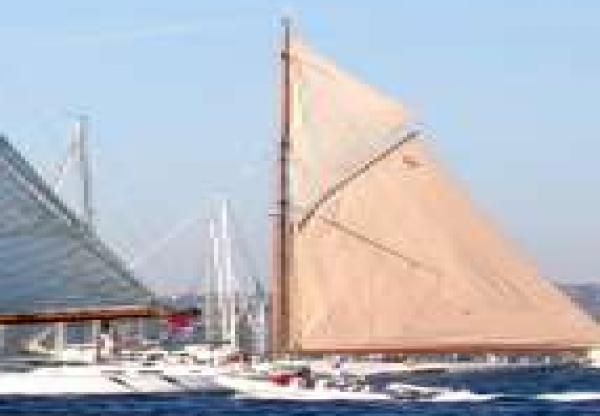Sailboat: (0, 2, 600, 416)
